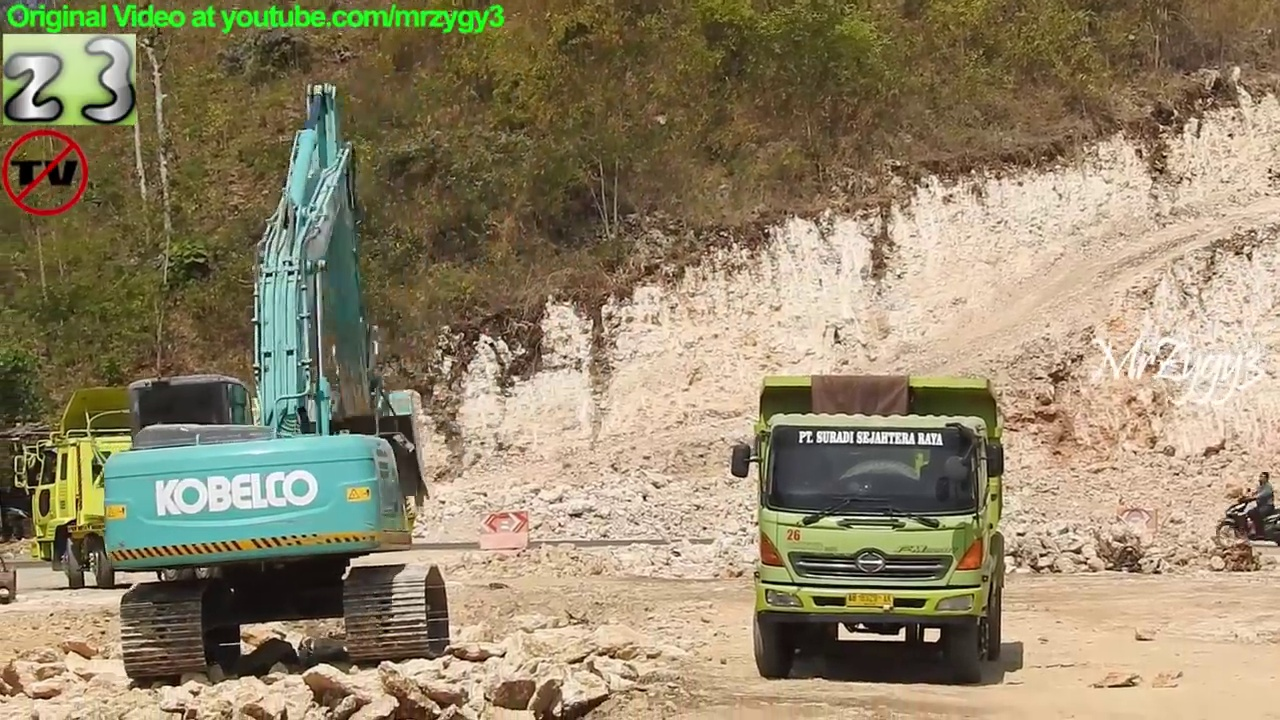excavator: (98, 76, 464, 686)
truck: (727, 371, 1015, 690), (7, 383, 430, 588)
